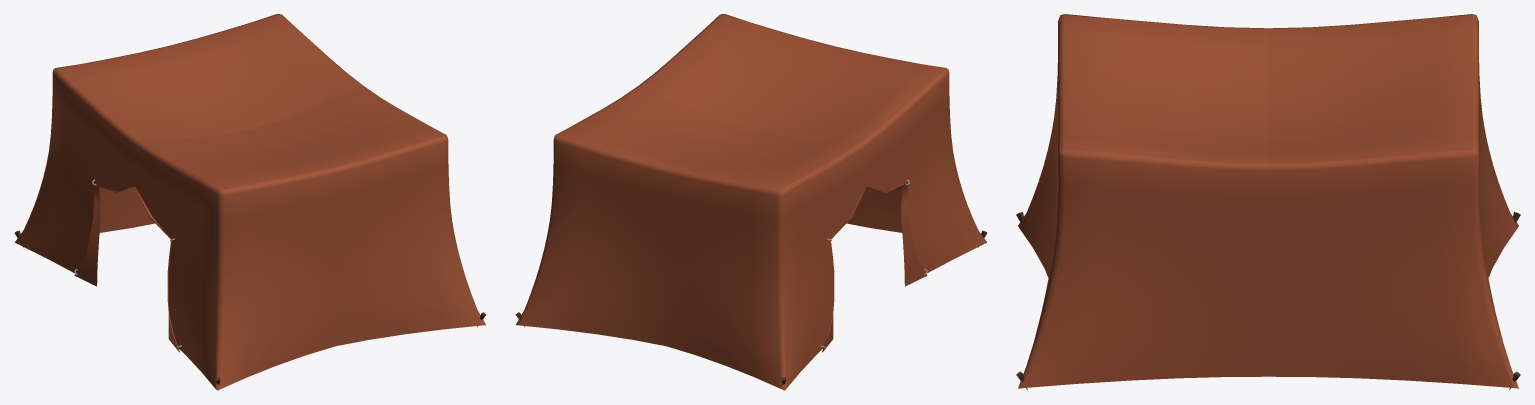
Rendered from tent1.fbx.
3 renders of one model, left to right at view 1: azimuth 30°, elevation 25°; view 2: azimuth 150°, elevation 25°; view 3: azimuth 270°, elevation 25°, orthographic. The views are drawn at different scales.
Parts seen in each view (by area): view 1: tent; view 2: tent; view 3: tent.
Part boxes in pixels (bbox=[...]): tent: bbox=[14, 14, 486, 390]; tent: bbox=[515, 14, 987, 390]; tent: bbox=[1016, 14, 1520, 390].
Size of the model in its own units: 383 by 252 by 500.
